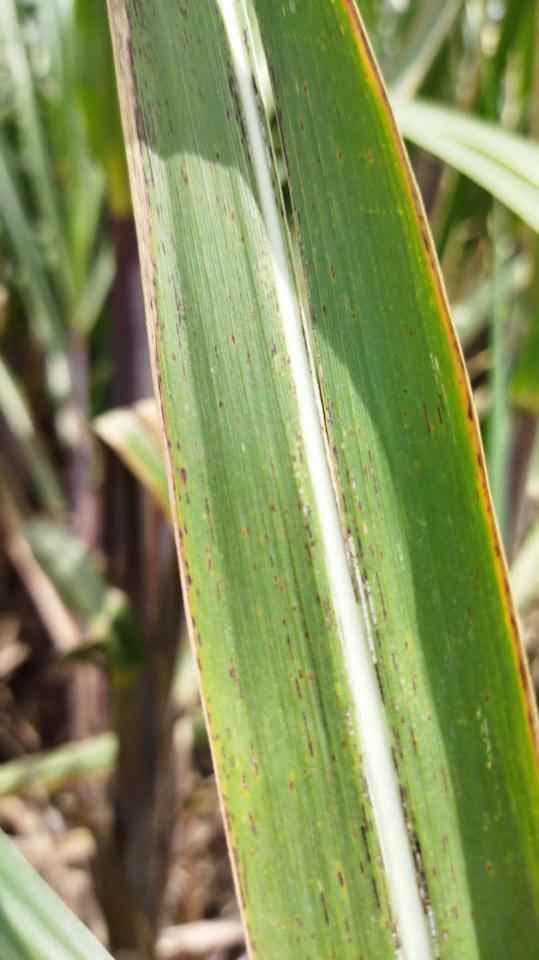Rust: (166, 0, 403, 959), (255, 0, 462, 959), (121, 0, 263, 959), (234, 0, 287, 224), (420, 391, 446, 437), (226, 655, 247, 702)
Yellow: (338, 0, 539, 777)
